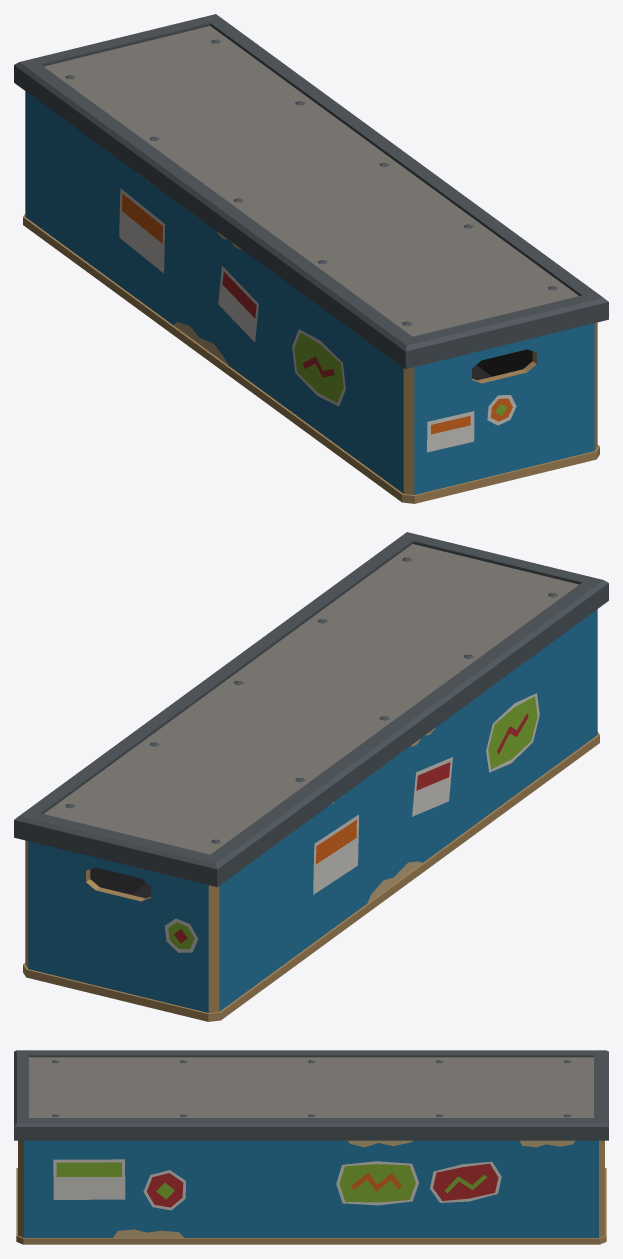
Rendered from plywood-grind-box-f6aa93.glb.
3 renders of one model, top to bottom at view 1: azimuth 30°, elevation 25°; view 2: azimuth 150°, elevation 25°; view 3: azimuth 270°, elevation 25°, orthographic. The views are drawn at different scales.
Parts seen in each view (by area): view 1: grind-box; view 2: grind-box; view 3: grind-box.
Part boxes in pixels (x1,y1,x2,y2): grind-box: (14,14,608,503); grind-box: (14,532,608,1021); grind-box: (14,1050,608,1244).
Size of the model in its own units: 0.6 by 0.45 by 2.
